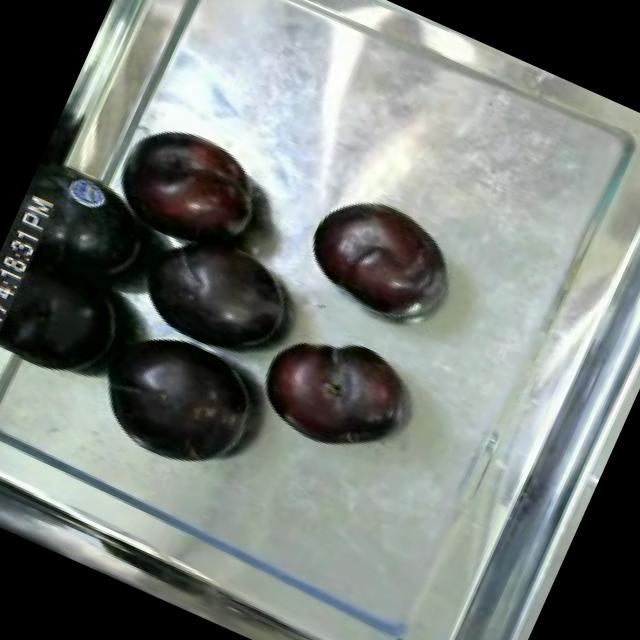Fruit: (69, 306, 274, 489), (118, 200, 320, 382), (236, 305, 426, 479), (97, 105, 283, 277), (288, 176, 462, 334)
